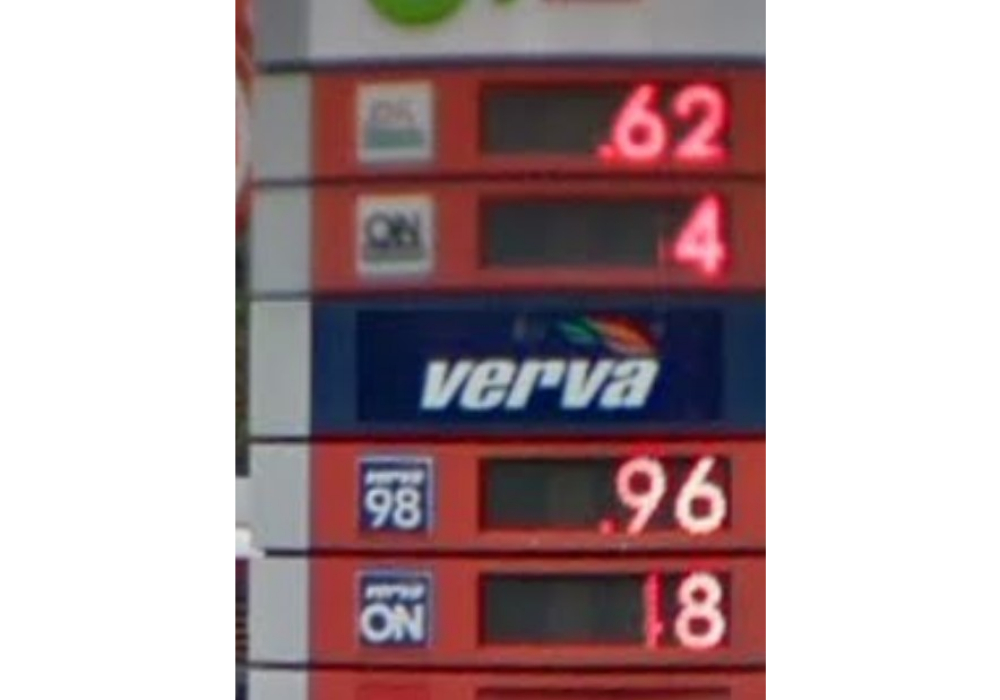ON: (350, 565, 431, 649), (353, 194, 433, 274)
PB98: (353, 454, 434, 540)
